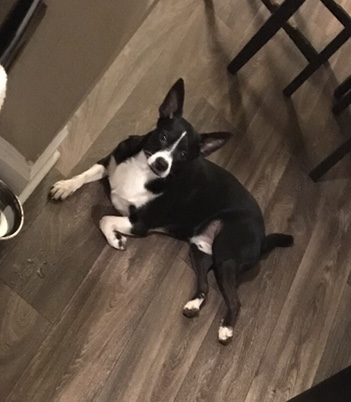Harley: (45, 71, 299, 345)
